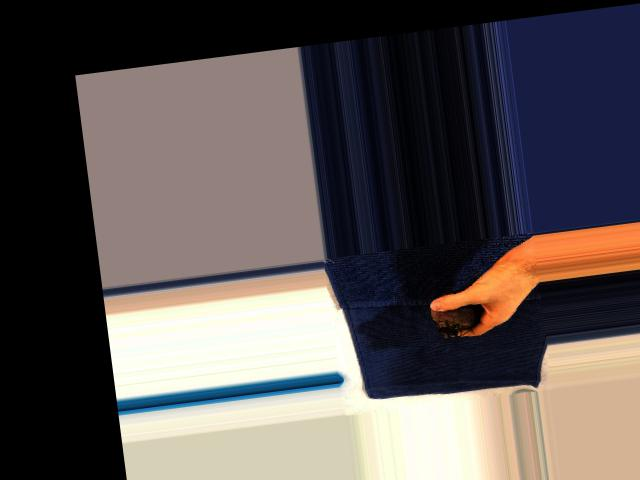beet: (425, 271, 484, 339)
